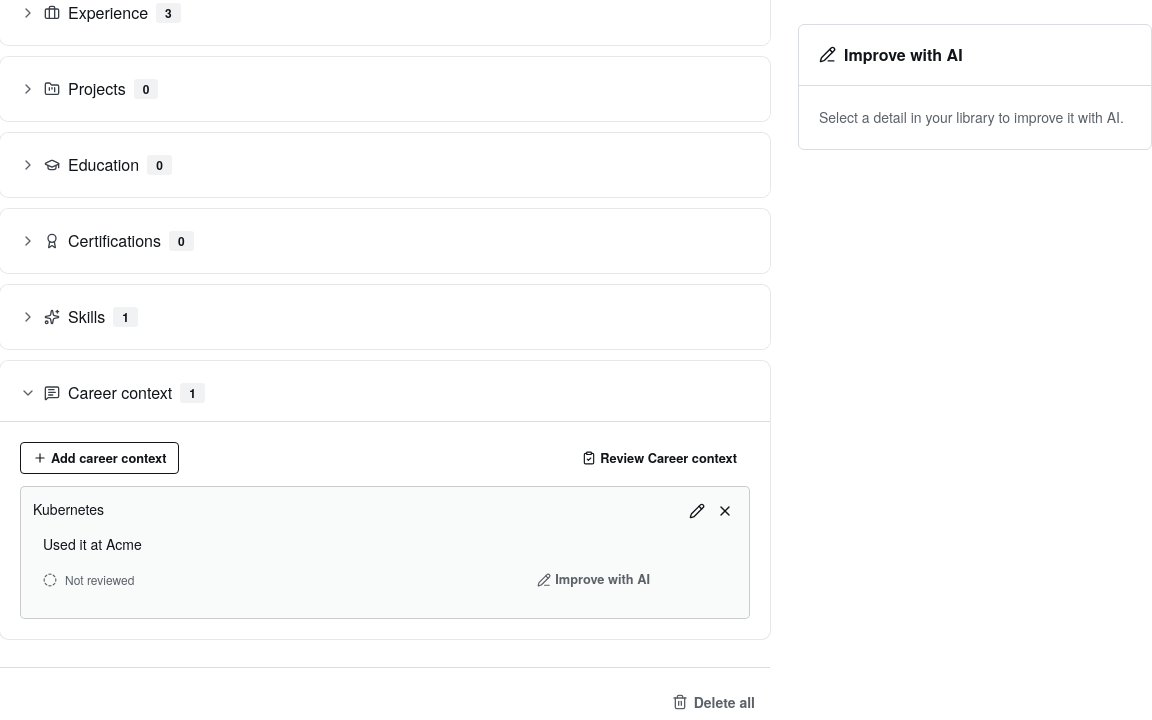
Scenario: edits a context
(page scrolled)
Click the button named "Edit Kubernetes" at (697, 511), box [685,499,709,523]
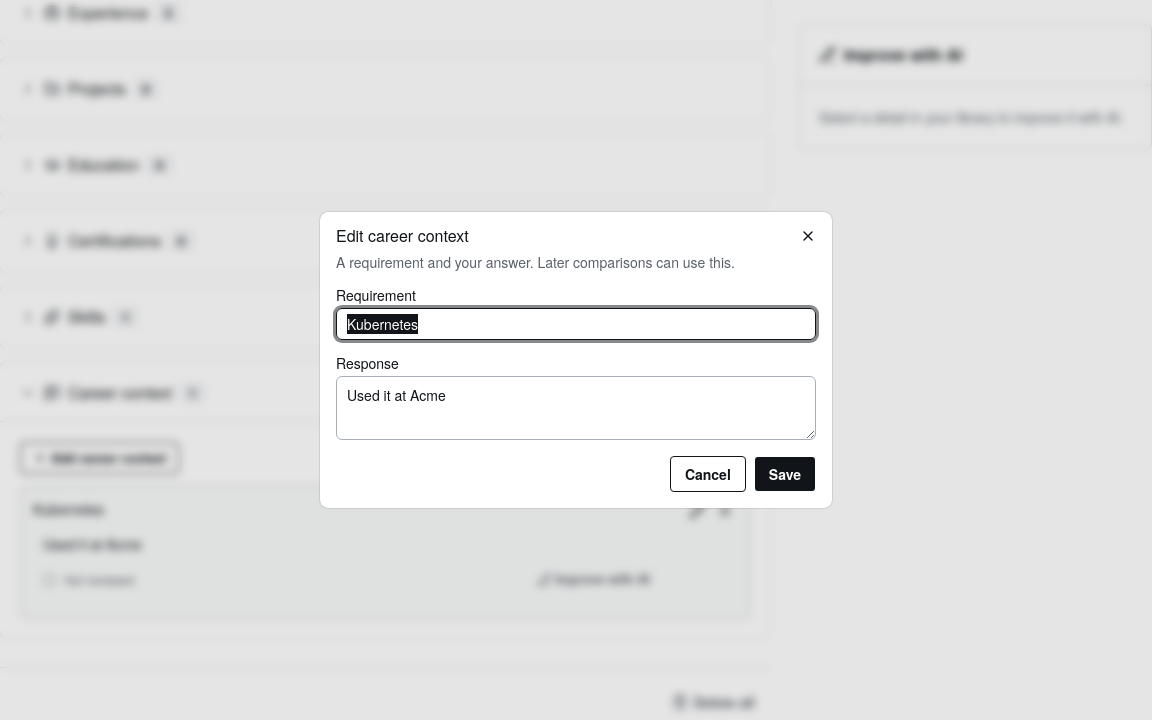
Replace the text in the text box labelled "Response" with "Used it for two years" at (576, 408), box [336,376,816,440]
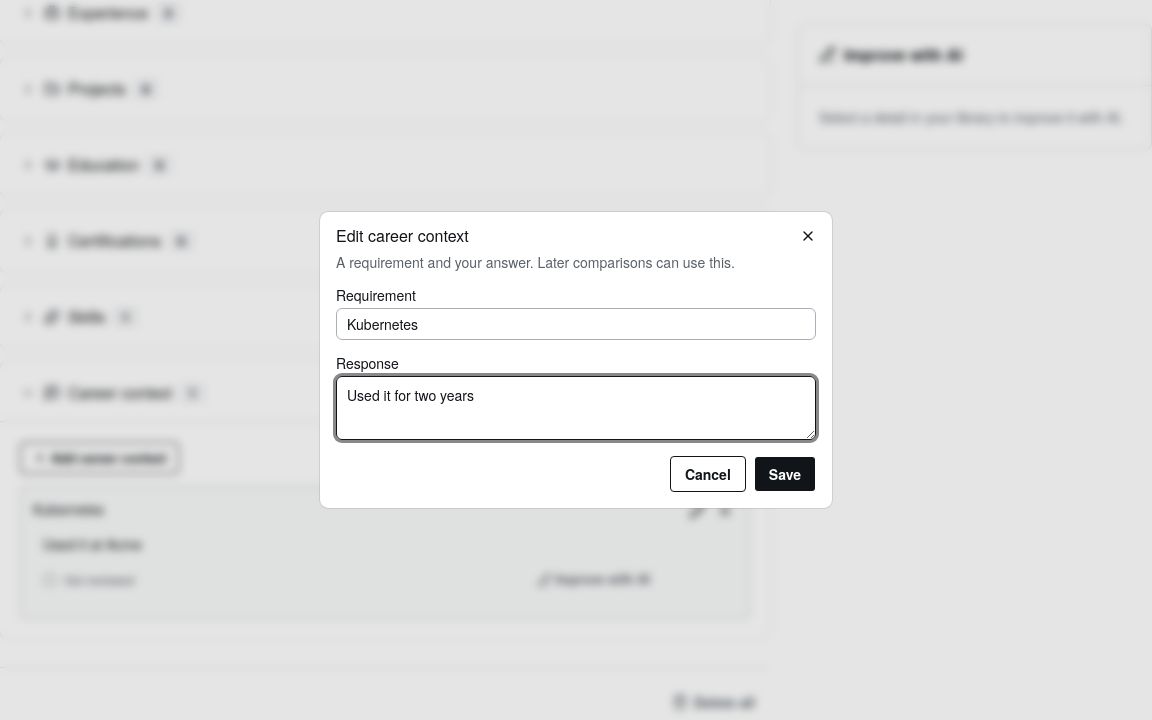
Click the button "Save" at (785, 474), box [754,456,816,492]
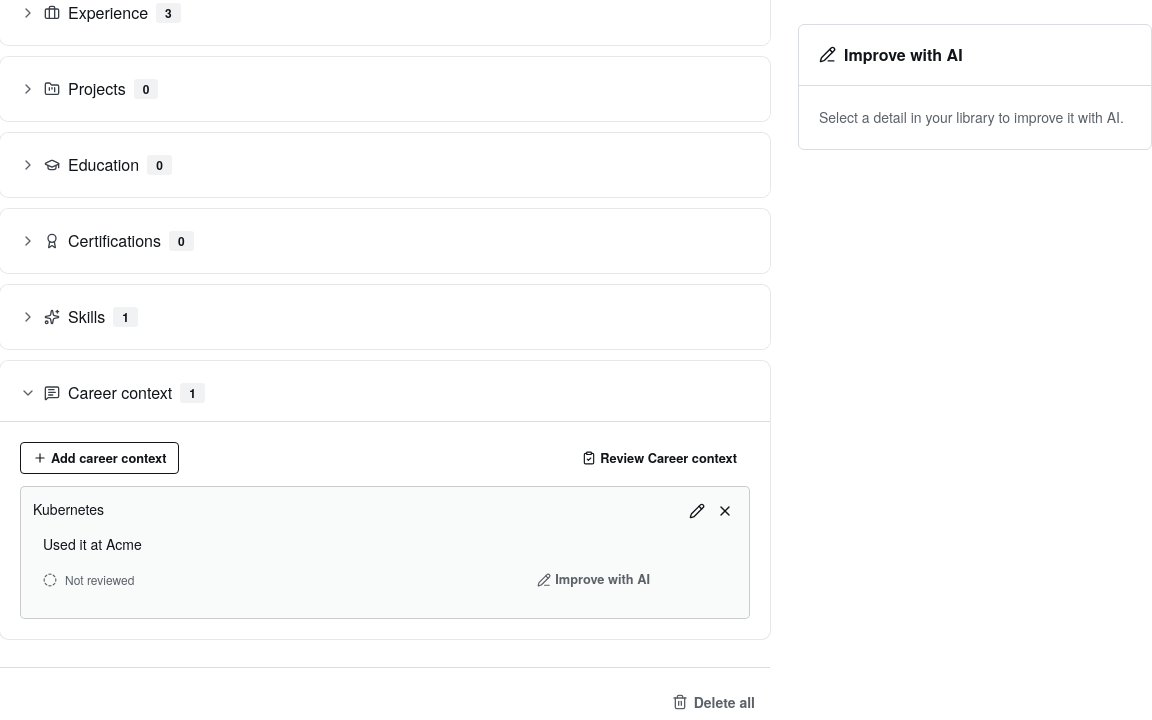
Expected: the dialog is gone
